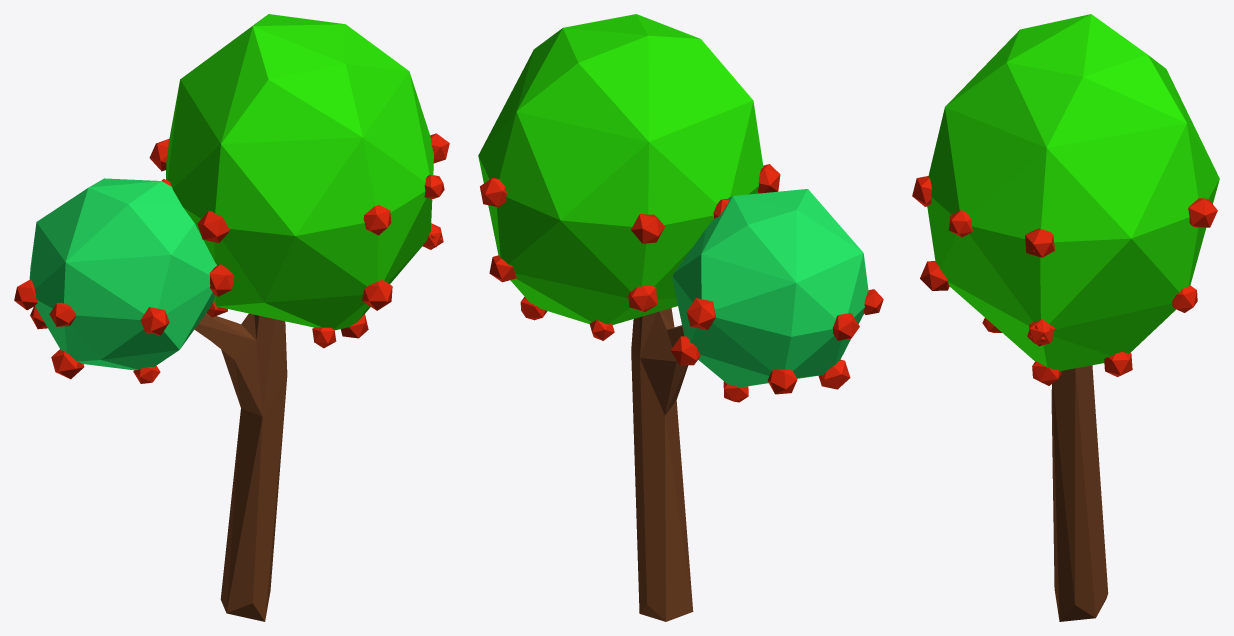
Rendered from bigFruitTree1 1.fbx.
3 views of the same model, side by side, from view 1: azimuth 30°, elevation 25°; view 2: azimuth 150°, elevation 25°; view 3: azimuth 270°, elevation 25° (orthographic). The views are drawn at different scales.
Parts seen in each view (by area): view 1: BigFruitTree.001, Icosphere.001; view 2: BigFruitTree.001, Icosphere.001; view 3: BigFruitTree.001, Icosphere.001.
Part boxes in pixels (x1,y1,x2,y2): BigFruitTree.001: [29, 14, 433, 621]; Icosphere.001: [14, 133, 449, 383]; BigFruitTree.001: [478, 14, 868, 621]; Icosphere.001: [480, 164, 883, 402]; BigFruitTree.001: [927, 14, 1219, 621]; Icosphere.001: [912, 176, 1217, 385].
Size of the model in its own units: 250 by 358 by 164.
